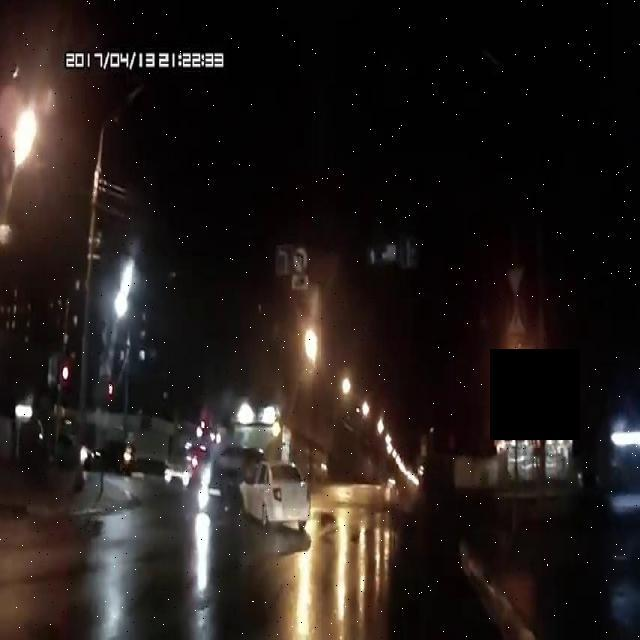moderate: (193, 439, 314, 534)
